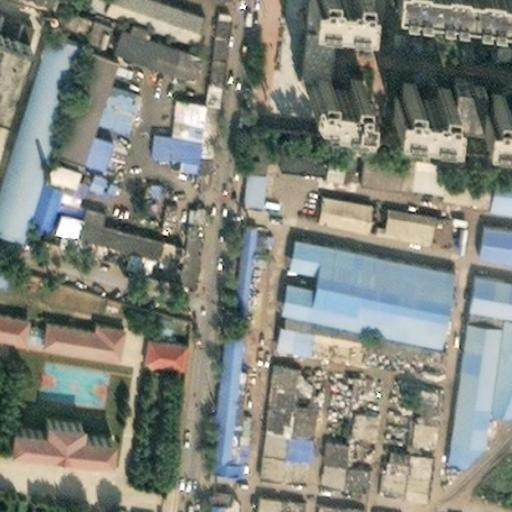building: (274, 228, 437, 331), (0, 28, 76, 227), (207, 212, 251, 467), (41, 199, 173, 261), (438, 307, 490, 455), (46, 43, 109, 153), (99, 9, 188, 70), (310, 400, 372, 485), (0, 307, 119, 349), (0, 414, 96, 459), (254, 355, 310, 428), (196, 8, 223, 146), (250, 422, 306, 476), (86, 73, 135, 128), (369, 439, 418, 491), (382, 64, 444, 105), (291, 59, 353, 100), (431, 149, 486, 194), (290, 0, 322, 71), (459, 264, 512, 306), (305, 185, 360, 223), (23, 174, 69, 217), (398, 377, 427, 444), (357, 328, 436, 352), (466, 75, 512, 115), (465, 210, 512, 249), (371, 199, 422, 233), (145, 119, 191, 155), (254, 135, 309, 165), (306, 139, 351, 174), (152, 182, 181, 227), (73, 125, 108, 162), (149, 307, 193, 336), (243, 487, 293, 512), (136, 332, 176, 363), (128, 172, 157, 214), (399, 143, 437, 174), (418, 207, 456, 238), (73, 8, 108, 41), (36, 152, 71, 184), (163, 84, 193, 121), (303, 493, 359, 512), (303, 322, 347, 346), (176, 195, 197, 245), (163, 239, 192, 275), (488, 181, 512, 215), (271, 319, 305, 342), (235, 159, 254, 199), (195, 492, 227, 512), (74, 163, 101, 186), (460, 0, 512, 11), (366, 499, 407, 512), (238, 133, 256, 160), (0, 266, 14, 289), (126, 505, 145, 512)
